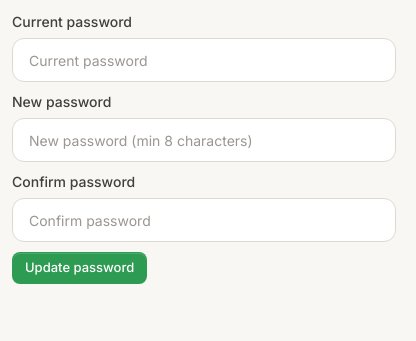
ChangePasswordForm (PB12) › rejects a new password shorter than eight characters
This screenshot has width=416, height=341.
Type "Current123!" into the password field labelled "Current password".
click(204, 60); type("Current123!")  # box [12,38,396,82]
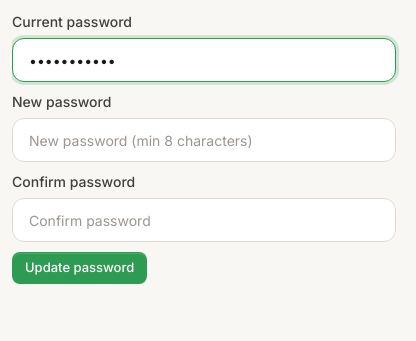
Type "short7!" into the password field labelled "New password".
click(204, 140); type("short7!")  # box [12,118,396,162]
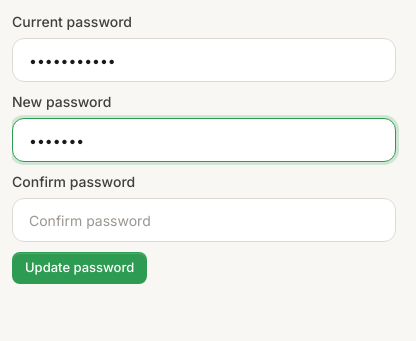
Type "short7!" into the password field labelled "Confirm password".
click(204, 220); type("short7!")  # box [12,198,396,242]
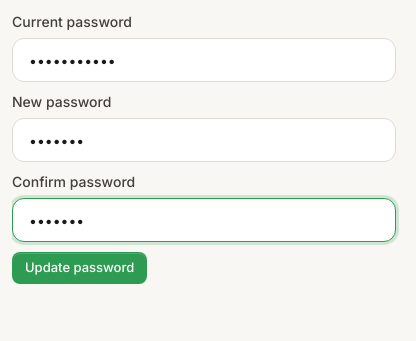
Click the button "Update password".
click(80, 268)  # box [12,252,147,284]
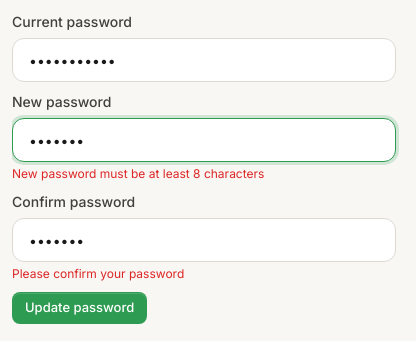
Expected: the text "New password must be at least 8 characters" is shown, [12,166,264,181]
